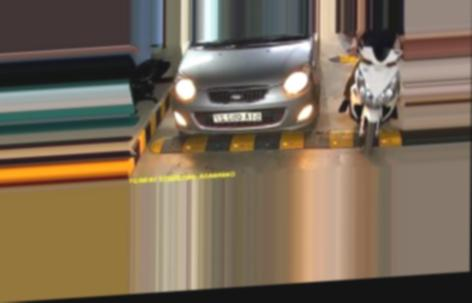License_Plate: (212, 109, 262, 125)
